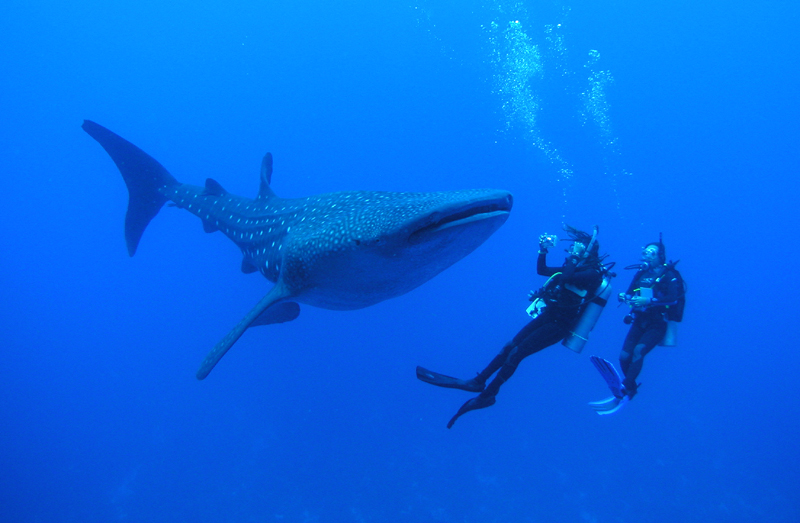Rhincodon_typusw: (66, 122, 519, 371)
